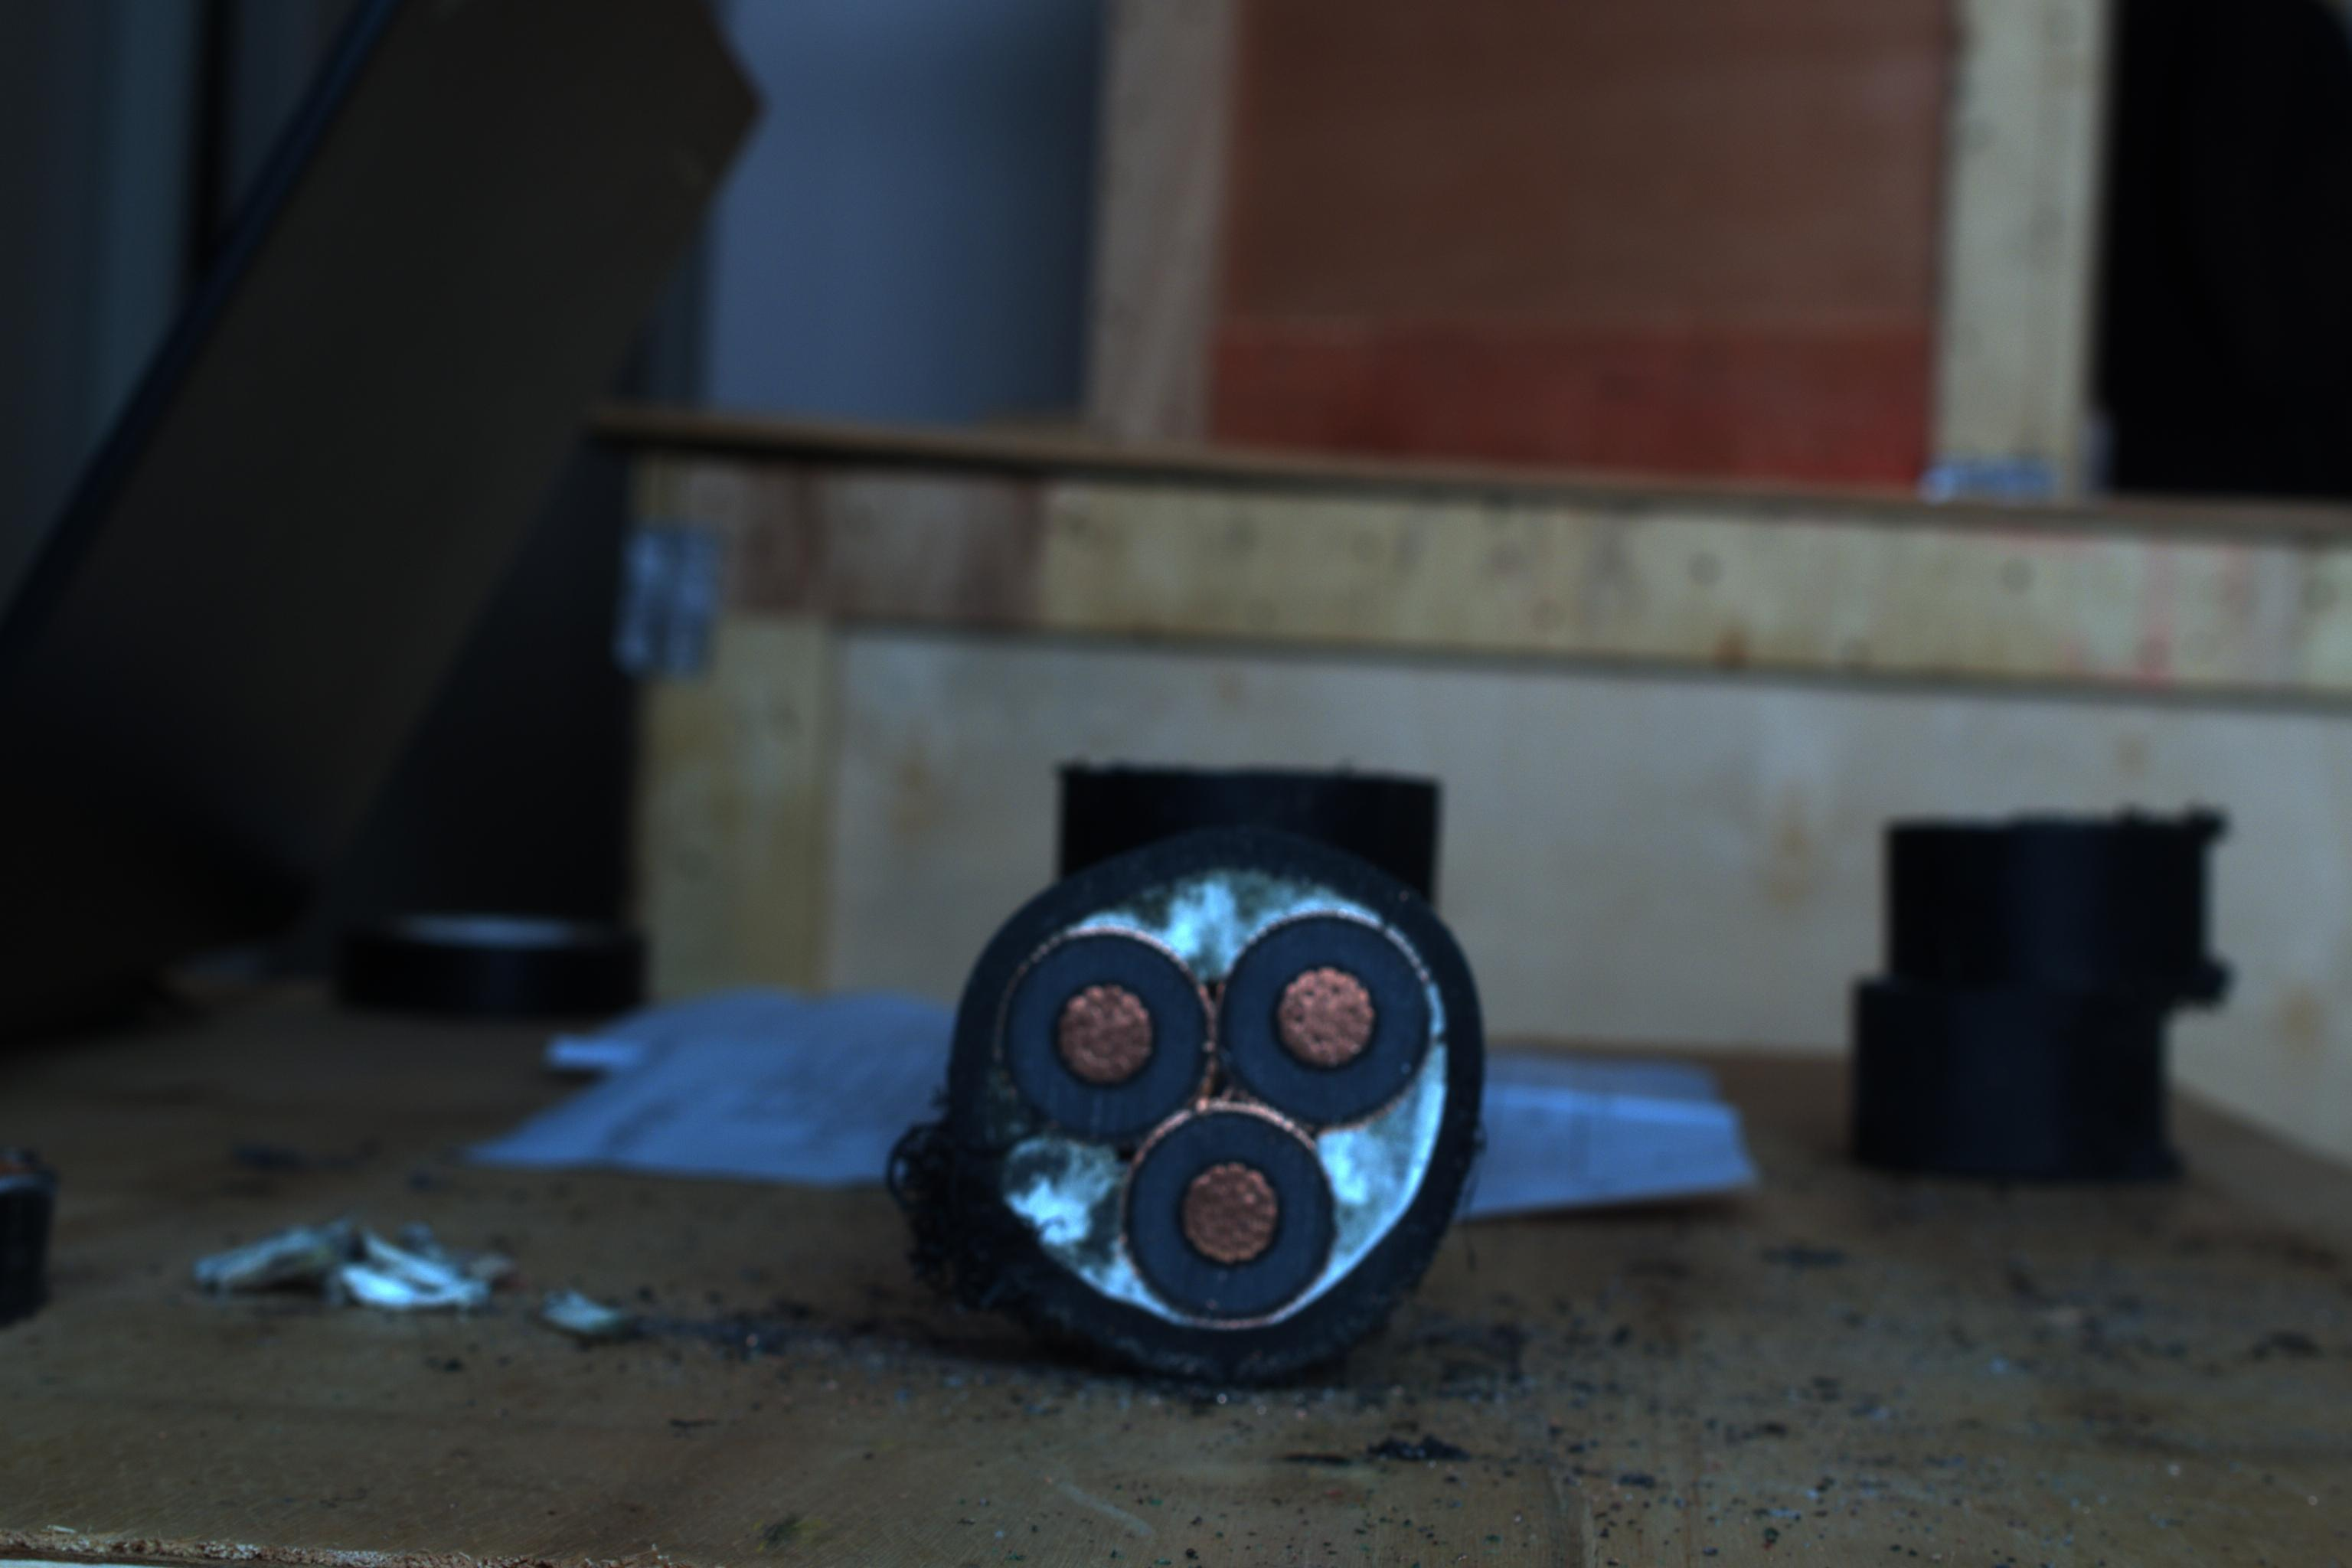YJV_8.7_10kV_3x70: (941, 838, 1489, 1382)
